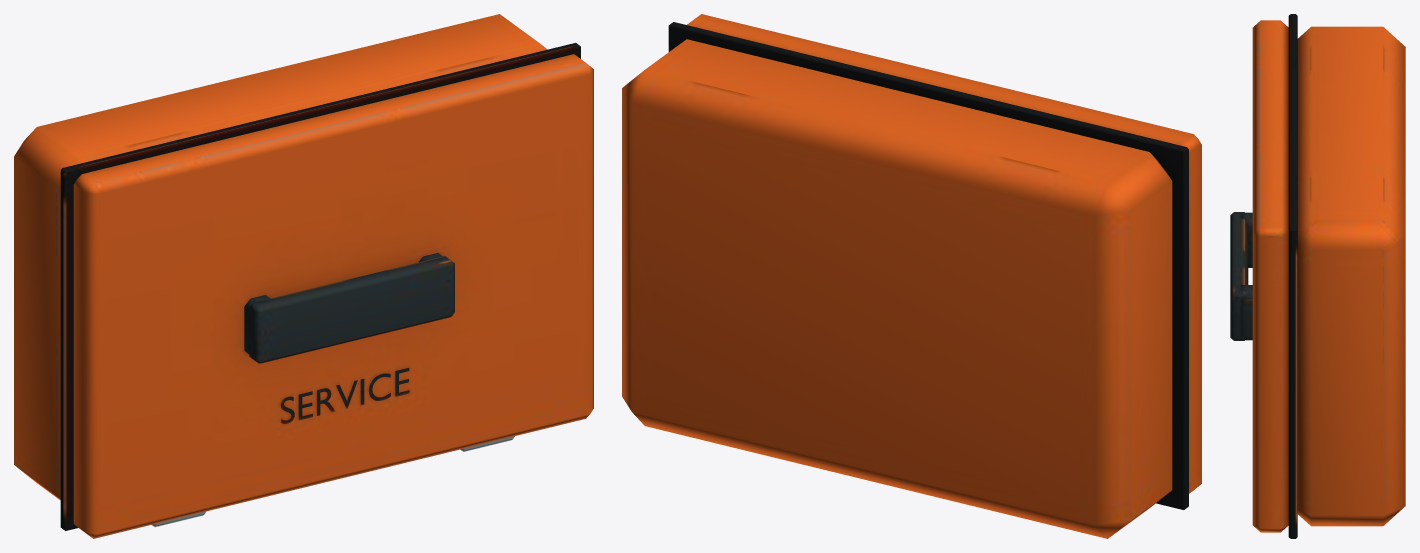
The model's file is toolbox.obj.
The picture shows the model from 3 angles, left to right: view 1: azimuth 30°, elevation 25°; view 2: azimuth 150°, elevation 25°; view 3: azimuth 270°, elevation 25°; orthographic projection. The views are drawn at different scales.
Visible parts, largest first — view 1: toolbox; view 2: toolbox; view 3: toolbox.
Boxes of the visible parts, x1,y1,x2,y2 form: toolbox: (14, 14, 593, 538); toolbox: (622, 14, 1201, 538); toolbox: (1230, 14, 1405, 538).
Size of the model in its own units: 0.114 by 0.0775 by 0.039.
Materials: 2 (2 with a texture image).
